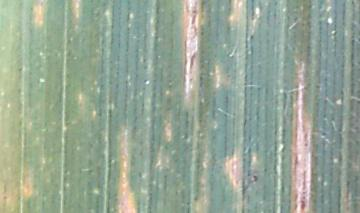tarspot: (248, 171, 261, 184), (247, 33, 256, 42)
